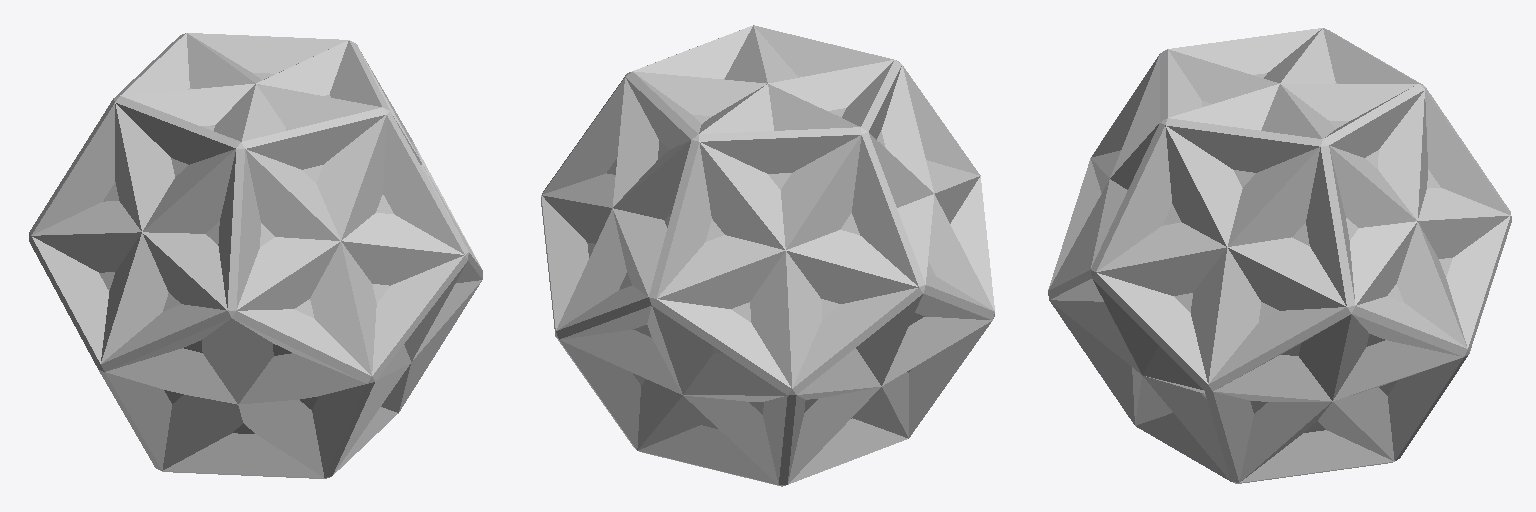
File: geodome.obj
3 renders of one model, left to right at view 1: azimuth 30°, elevation 25°; view 2: azimuth 150°, elevation 25°; view 3: azimuth 270°, elevation 25°, orthographic.
Visible parts, largest first — view 1: F1:GeoDome6; view 2: F1:GeoDome6; view 3: F1:GeoDome6.
Part boxes in pixels (bbox=[...]): F1:GeoDome6: bbox=[29, 33, 482, 478]; F1:GeoDome6: bbox=[541, 25, 994, 486]; F1:GeoDome6: bbox=[1048, 28, 1511, 483].
Bounding box in the file's own units: 1.79 × 1.54 × 1.88.